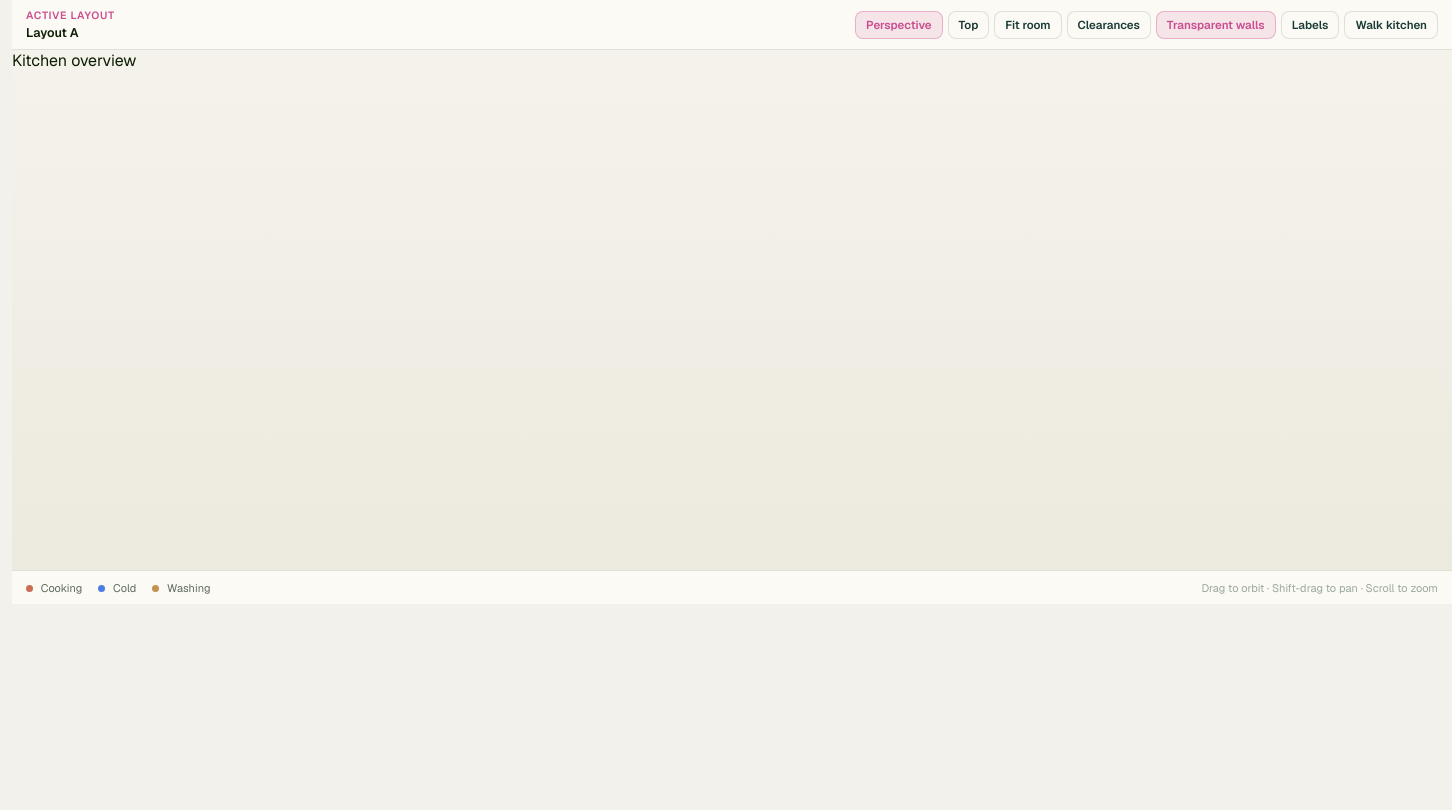
Test: 3D scene synchronization › keeps the overview renderer mounted when Walk has no valid spawn
Click the button "Walk kitchen": click(1391, 24) [1344,10,1438,38]
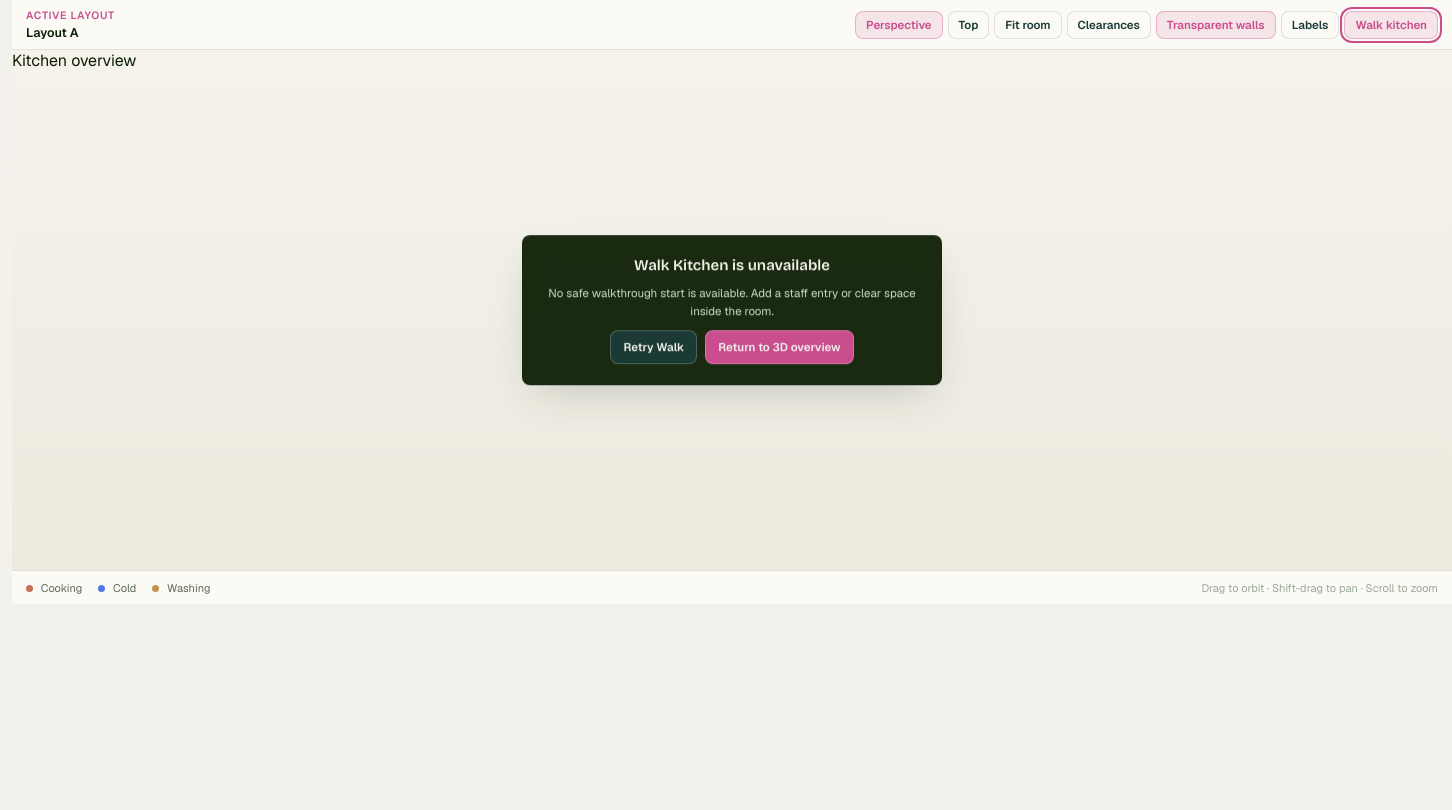
Expected: the text "Kitchen overview" is shown, [12,50,136,71]
Expected: the message shows "No safe walkthrough start", [548,285,916,318]
Click the button "Return to 3D overview": click(779, 347) [705,330,854,364]
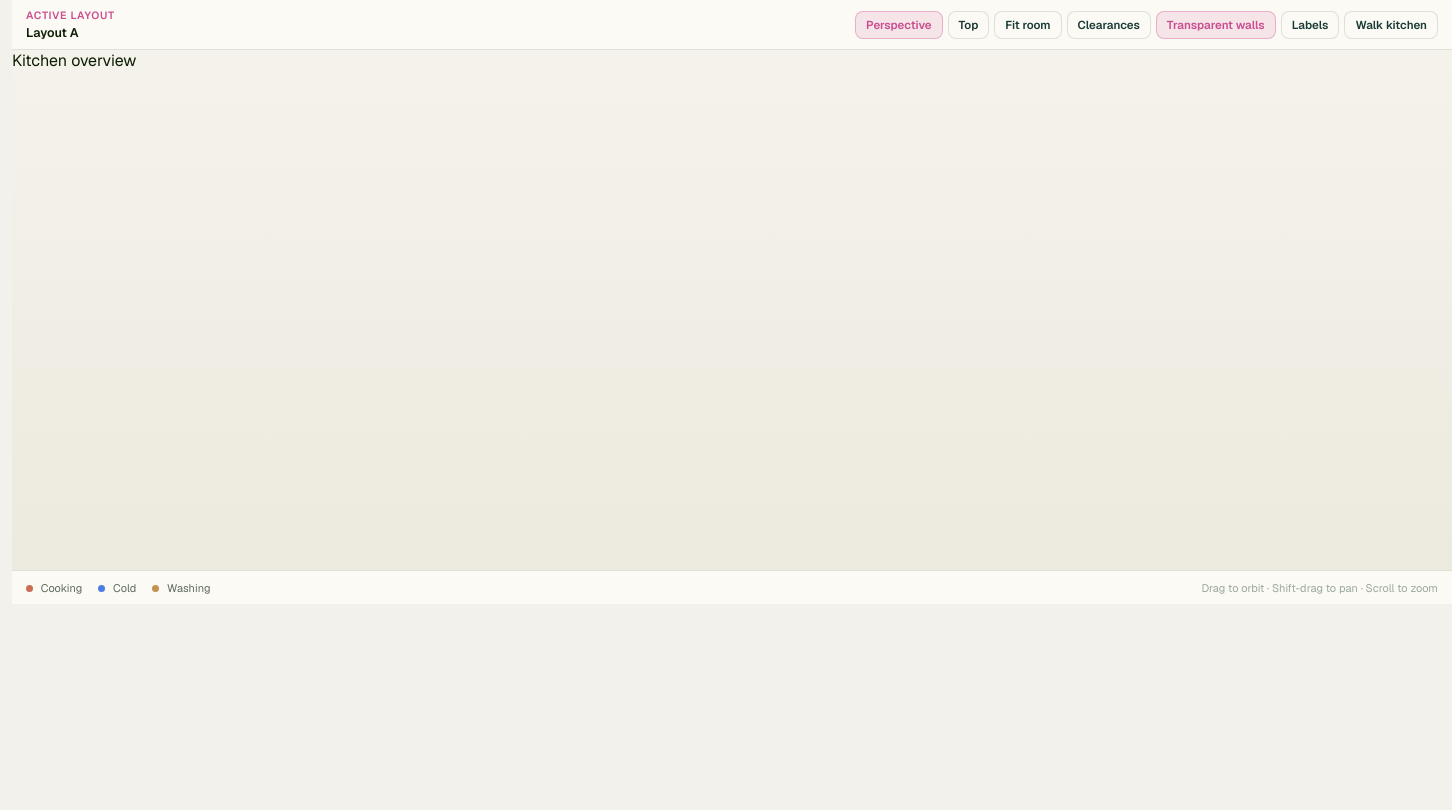
Expected: the text "Kitchen overview" is shown, [12,50,136,71]
Expected: the message "Walk Kitchen is unavailable No safe walkthrough start is available. Add a staff" is gone
